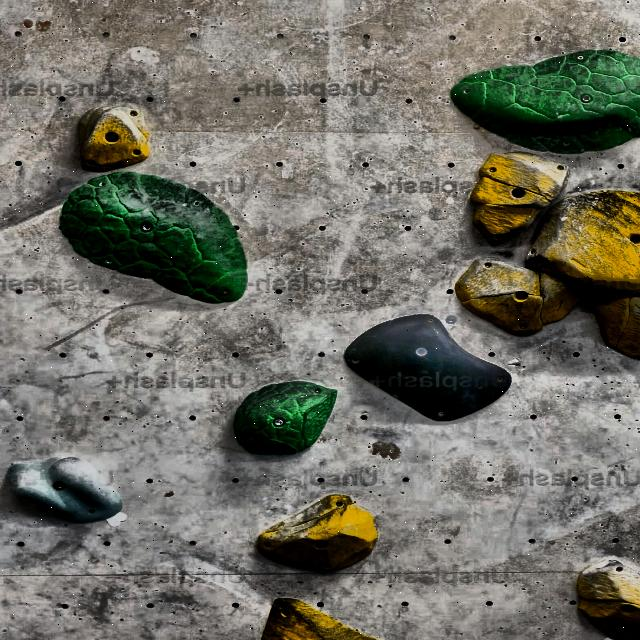Hold: (59, 170, 247, 303), (451, 49, 640, 153), (345, 314, 511, 421), (529, 190, 640, 294), (456, 259, 586, 335), (257, 495, 378, 572), (470, 153, 568, 244), (233, 382, 337, 455), (7, 457, 122, 523), (578, 558, 640, 640), (77, 108, 149, 172), (592, 291, 640, 359)
